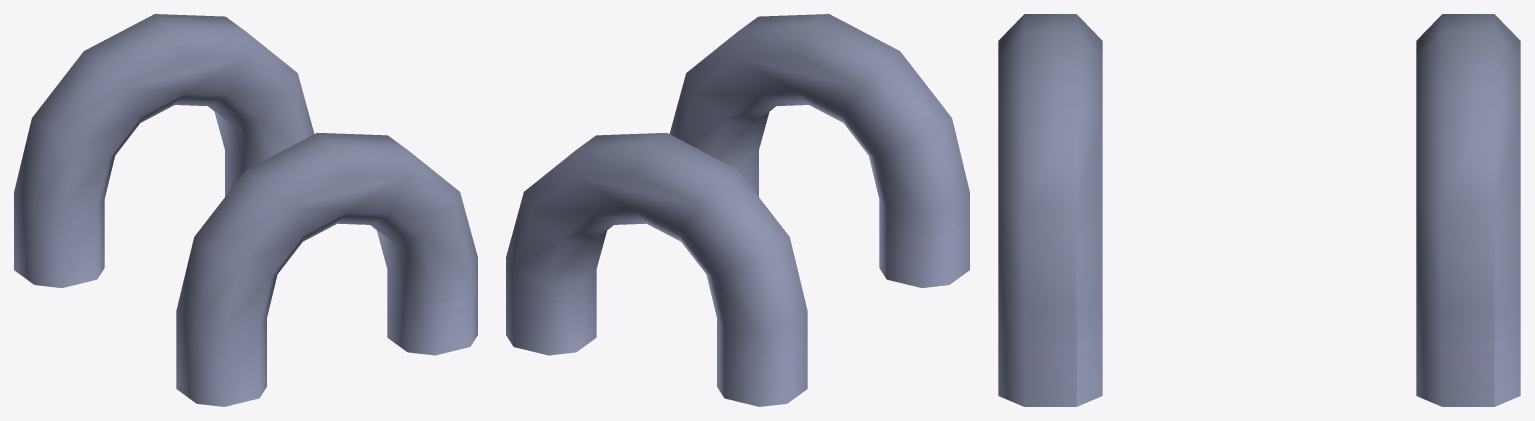
Rendered from kenney-prototype-ladder-top.glb.
The picture shows the model from 3 angles, left to right: view 1: azimuth 30°, elevation 25°; view 2: azimuth 150°, elevation 25°; view 3: azimuth 270°, elevation 25°; orthographic projection. The views are drawn at different scales.
Visible parts, largest first — view 1: ladder-top; view 2: ladder-top; view 3: ladder-top.
Boxes of the visible parts, x1,y1,x2,y2 form: ladder-top: (14, 14, 477, 406); ladder-top: (506, 14, 969, 406); ladder-top: (998, 14, 1520, 406).
Size of the model in its own units: 0.4 by 0.3017 by 0.5.
1 material, 1 textured.
